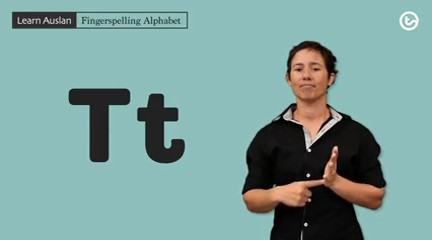T: (266, 142, 350, 215)
